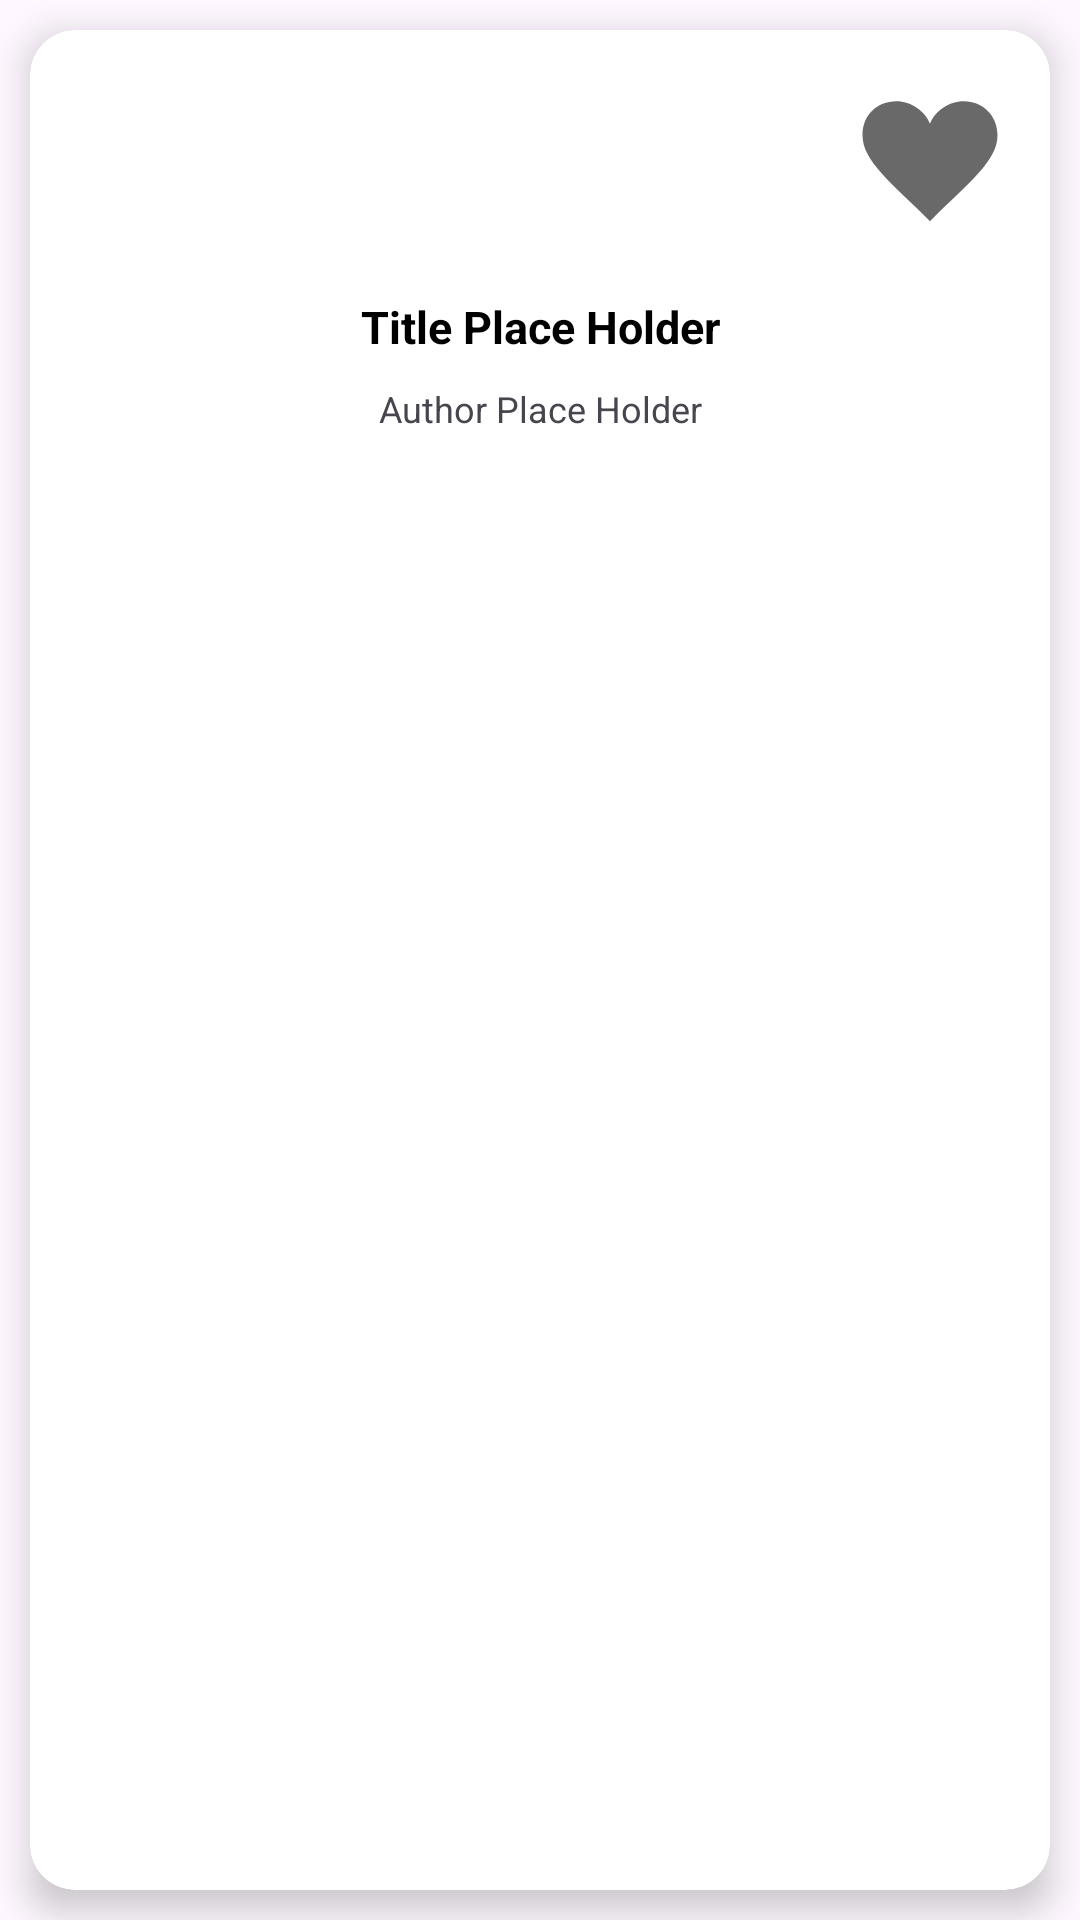

Icons on this 1080*1920 Android screen, each with the point to tap as [x,y]:
heart passive: [930,161]
